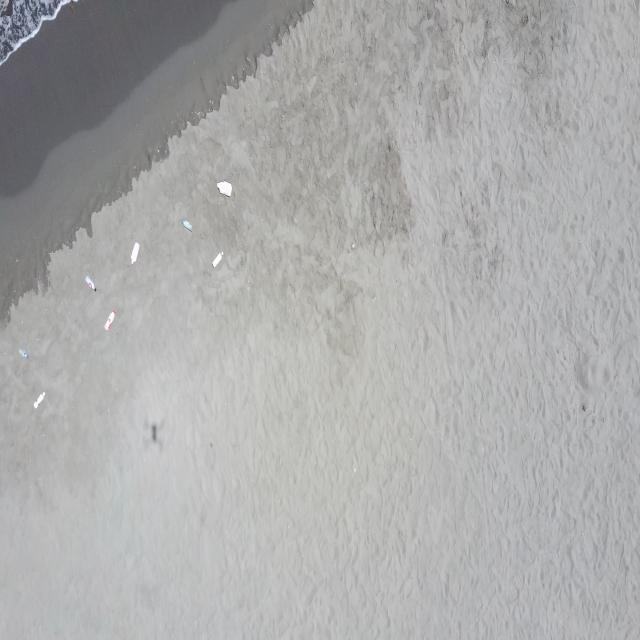plastic-bottle: (216, 179, 234, 198), (32, 389, 47, 408), (130, 242, 142, 265), (211, 250, 224, 270), (105, 309, 116, 331), (86, 275, 99, 292), (181, 217, 193, 231), (20, 348, 31, 360)
